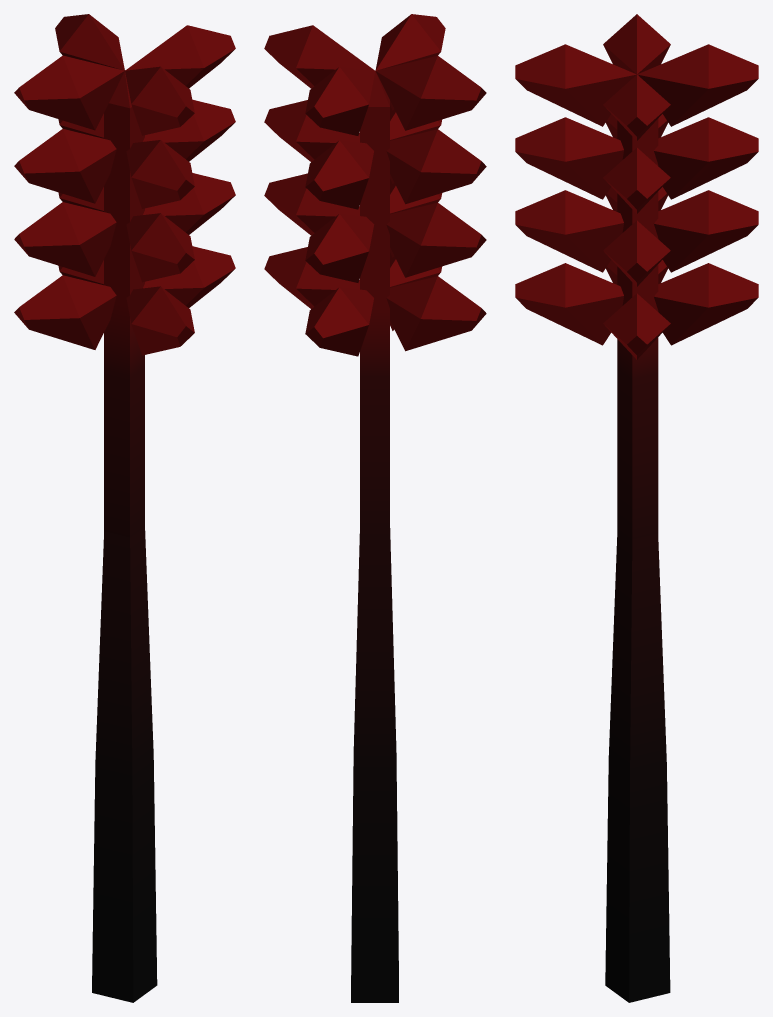
File: SM_Lupin.fbx
3 renders of one model, left to right at view 1: azimuth 30°, elevation 25°; view 2: azimuth 150°, elevation 25°; view 3: azimuth 270°, elevation 25°, orthographic.
Visible parts, largest first — view 1: SM_Lupin; view 2: SM_Lupin; view 3: SM_Lupin.
Boxes of the visible parts, x1,y1,x2,y2 form: SM_Lupin: [14, 14, 235, 1002]; SM_Lupin: [264, 14, 486, 1002]; SM_Lupin: [515, 14, 758, 1002].
Bounding box in the file's own units: 20.38 × 87.37 × 20.38.
